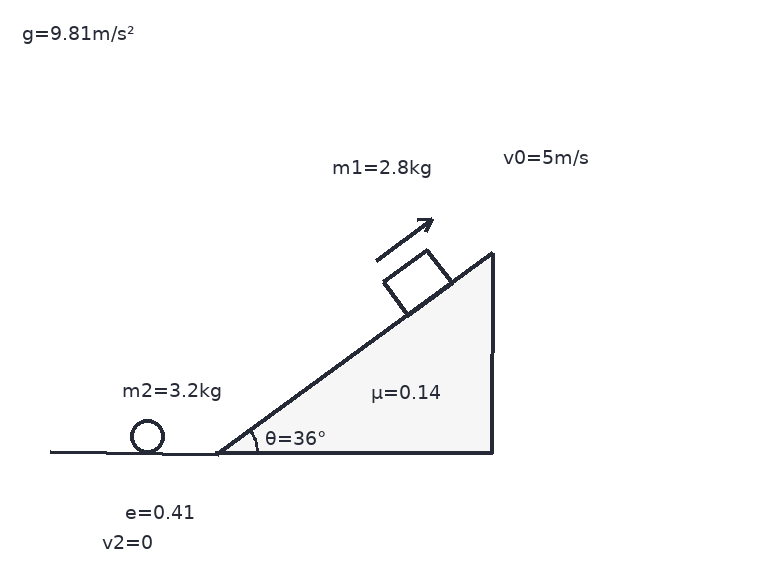ball: (128, 417, 166, 455)
block: (381, 247, 454, 317)
ramp: (215, 251, 494, 455)
